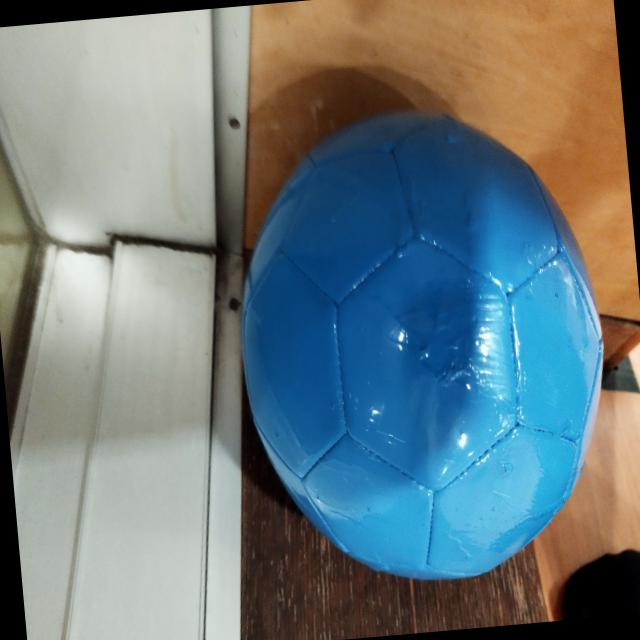blue_ball: (219, 89, 622, 591)
